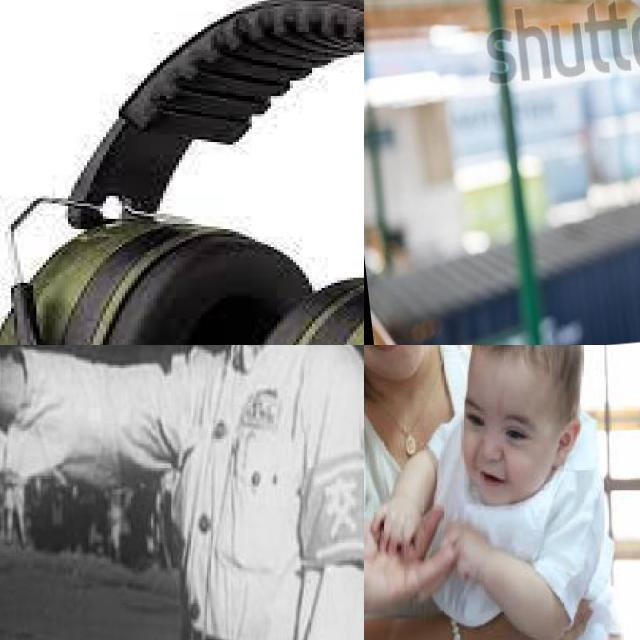Ear-protection: (36, 63, 364, 345)
No_Ear-Protection: (549, 414, 584, 467)
No_Glasses: (462, 394, 540, 454)
face_nomask: (452, 400, 556, 498)
hand_noglove: (364, 508, 463, 619), (441, 514, 496, 582), (368, 497, 428, 555)
head_nohelmet: (459, 345, 579, 376)
person: (137, 345, 364, 640), (394, 345, 620, 640), (364, 345, 520, 640)
